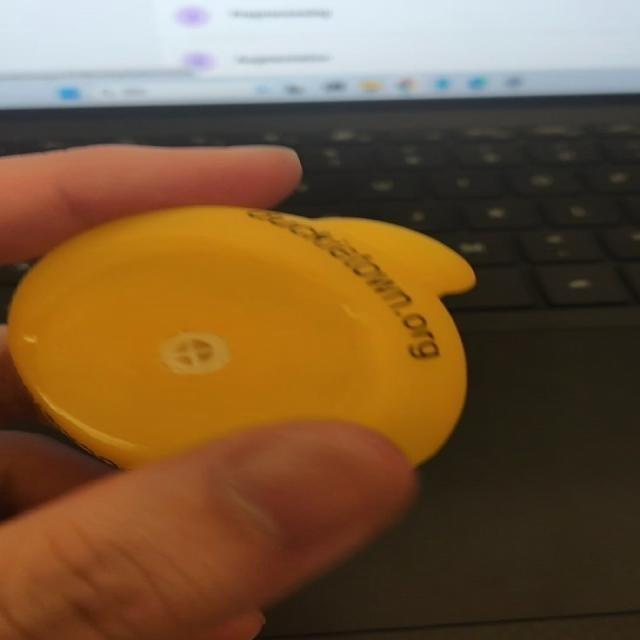rubber-duck: (8, 205, 473, 466)
